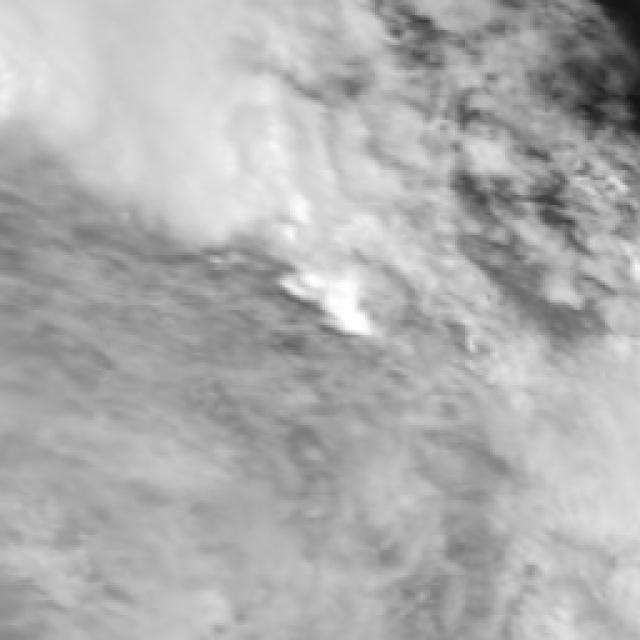CB: (33, 5, 238, 130)
